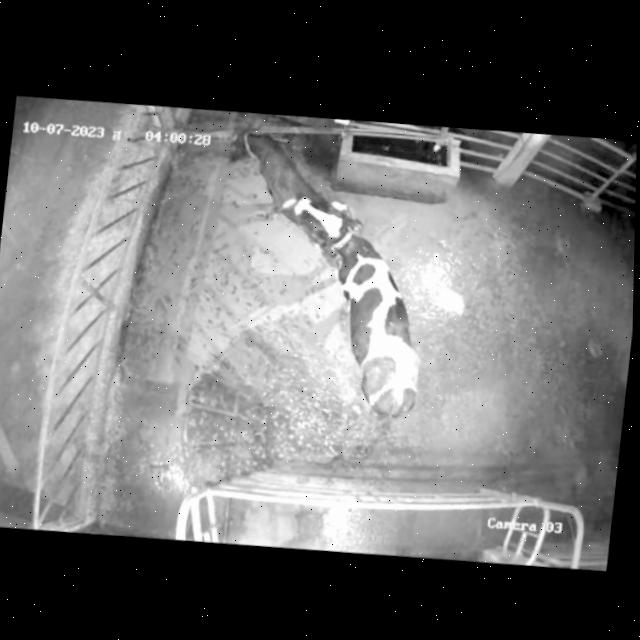propping: (267, 185, 387, 277)
stand: (213, 122, 365, 265)
